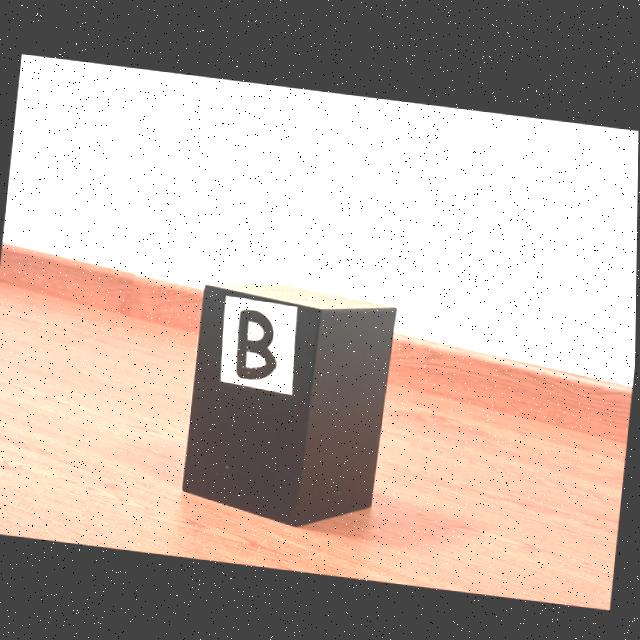B: (237, 307, 276, 378)
